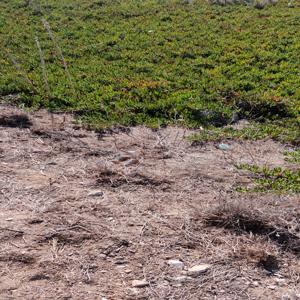plastic: (191, 263, 228, 278), (165, 253, 189, 272), (134, 273, 148, 289)
